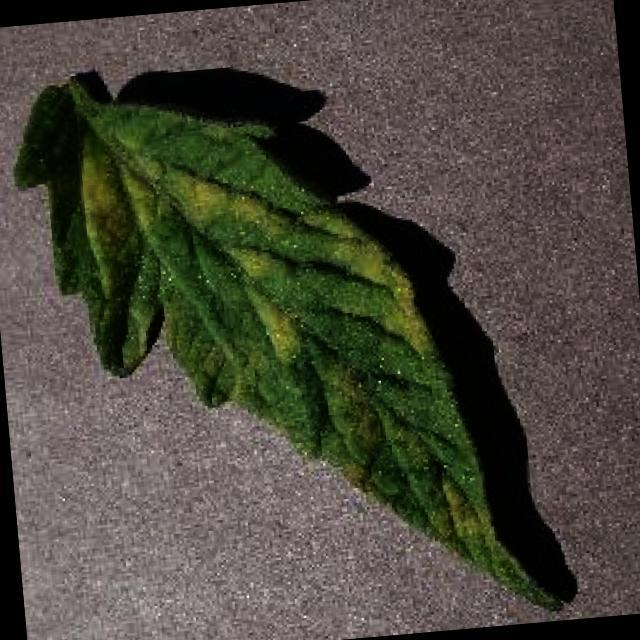Tomato mold leaf: (8, 35, 561, 640)
